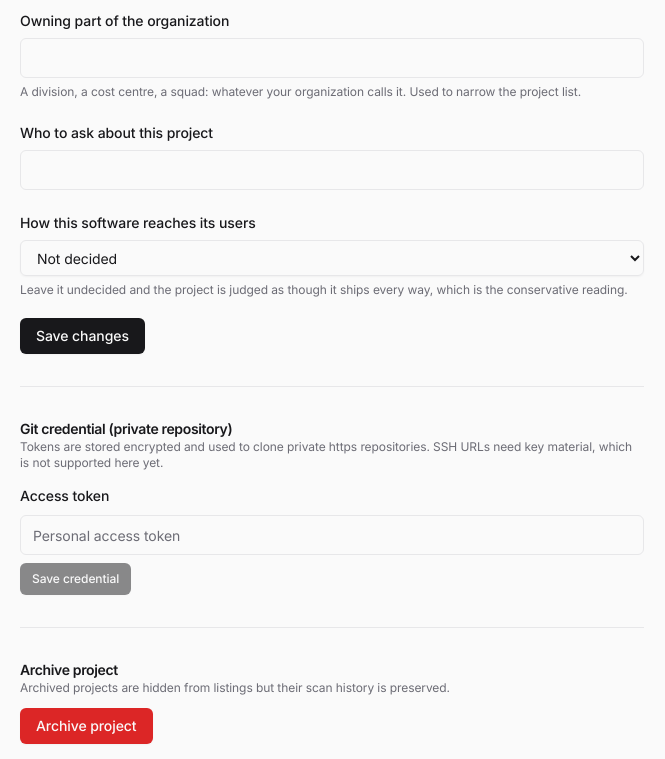
Test: SettingsTab › surfaces a 503 RFC7807 credential-encryption error inline
(page scrolled)
Type "ghp_token" into the password field with test id "project-git-credential-input" at [332, 535], box [20,515,644,555]
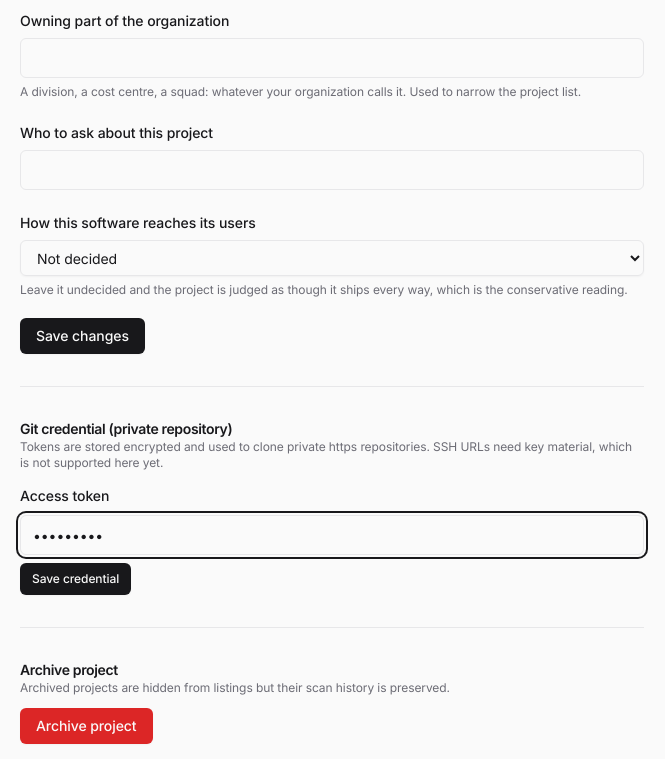
Click the button with test id "project-git-credential-save" at [76, 579], box [20,563,131,595]
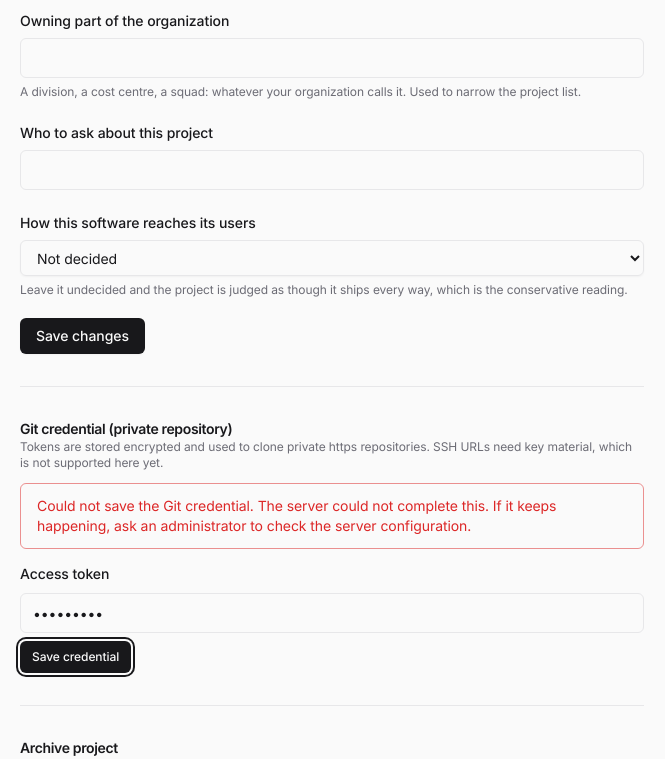
Expected: the message with test id "project-git-credential-error" shows "ask an administrator to check the server configuration", [37,497,556,534]
